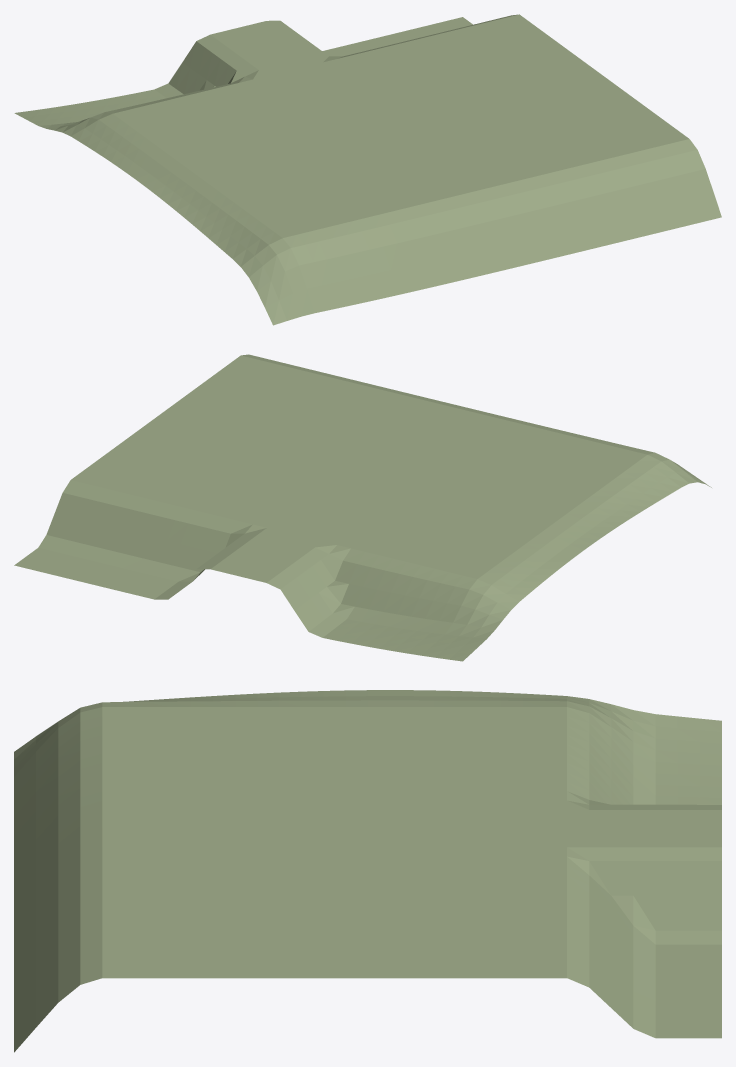
Rendered from railway-1-0.glb.
3 renders of one model, top to bottom at view 1: azimuth 30°, elevation 25°; view 2: azimuth 150°, elevation 25°; view 3: azimuth 270°, elevation 25°, orthographic. The views are drawn at different scales.
Visible parts, largest first — view 1: railway-1-0; view 2: railway-1-0; view 3: railway-1-0.
Boxes of the visible parts, x1=… form: railway-1-0: x1=14, y1=14, x2=721, y2=325; railway-1-0: x1=14, y1=354, x2=711, y2=661; railway-1-0: x1=14, y1=690, x2=721, y2=1052.
Size of the model in its own units: 128 by 14.91 by 128.
